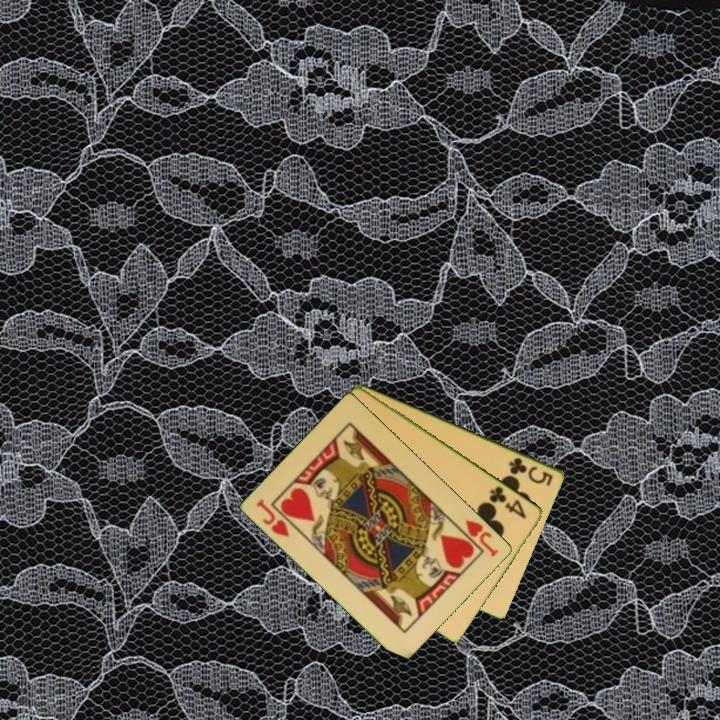4c: (486, 482, 530, 522)
5c: (506, 453, 556, 489)
Jh: (453, 516, 501, 560), (253, 495, 293, 540)
